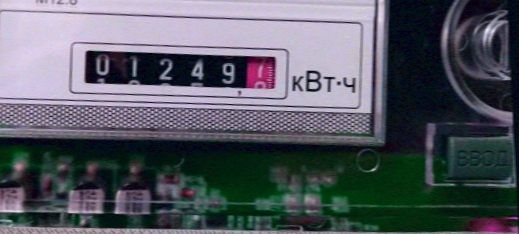0: (92, 49, 111, 75)
1: (125, 50, 140, 77)
2: (155, 54, 173, 81)
4: (188, 54, 205, 80)
7: (252, 52, 268, 78)
9: (217, 57, 235, 84)
screen: (65, 28, 292, 112)
